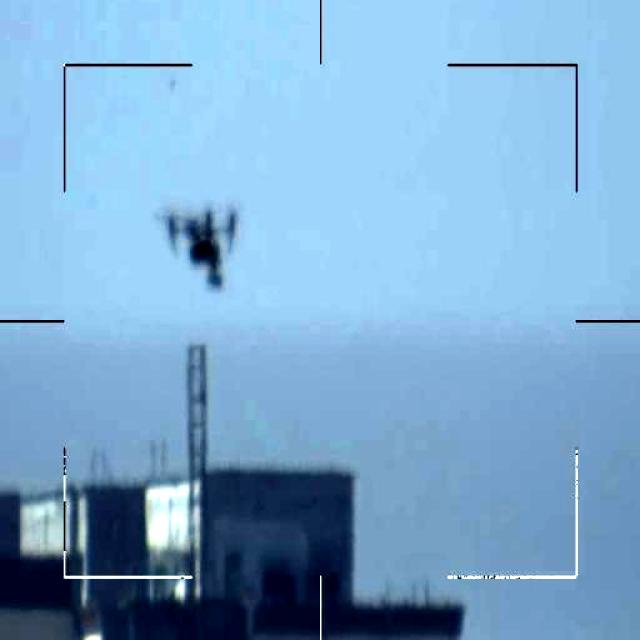bird: (165, 200, 248, 296)
